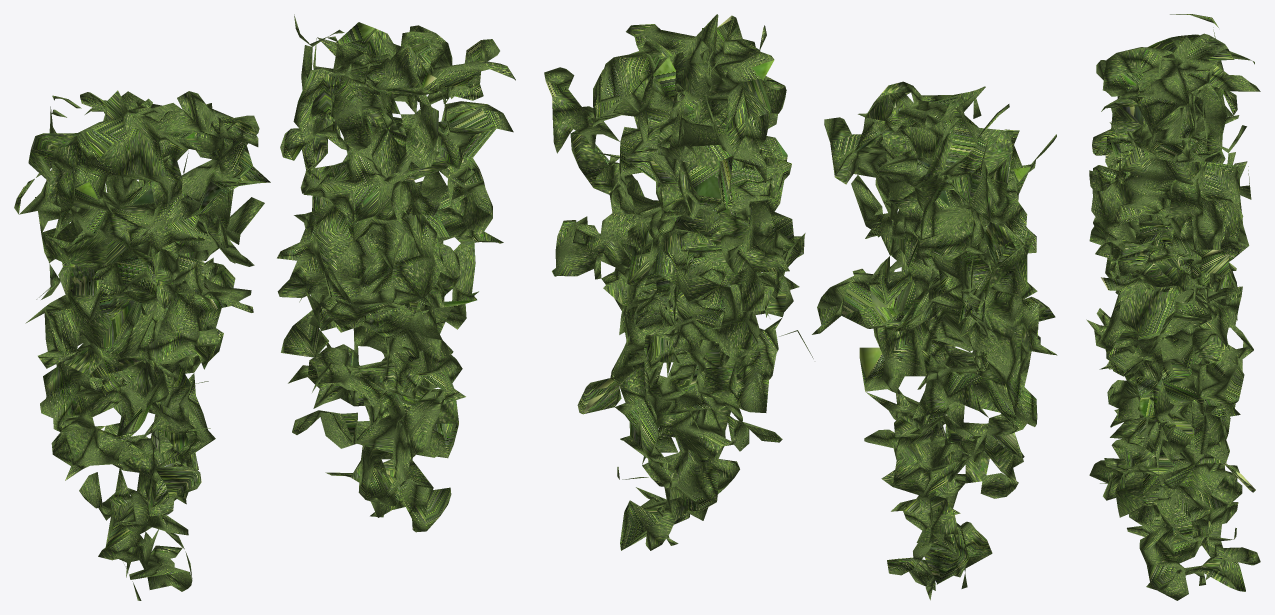
Rendered from gorse.glb.
3 renders of one model, left to right at view 1: azimuth 30°, elevation 25°; view 2: azimuth 150°, elevation 25°; view 3: azimuth 270°, elevation 25°, orthographic. The views are drawn at different scales.
Bounding box in the file's own units: 1.97 × 1.98 × 0.7138.
1 material, 1 textured.
